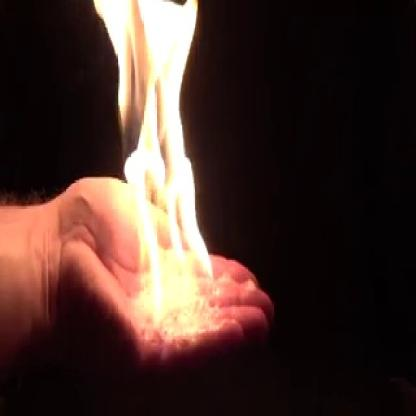fire: (90, 0, 218, 313)
